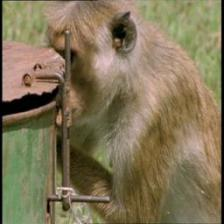monkey: (41, 0, 141, 126)
